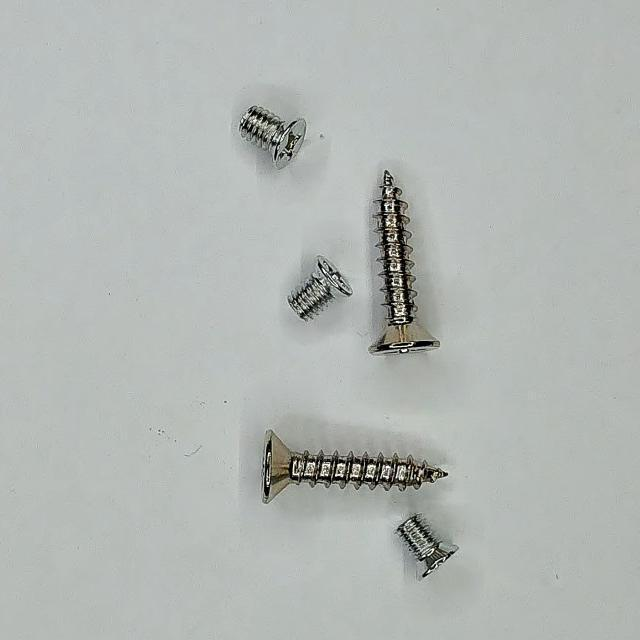Screw: (262, 431, 448, 504), (369, 170, 441, 354), (288, 256, 353, 322), (239, 106, 306, 168), (397, 515, 459, 580)
